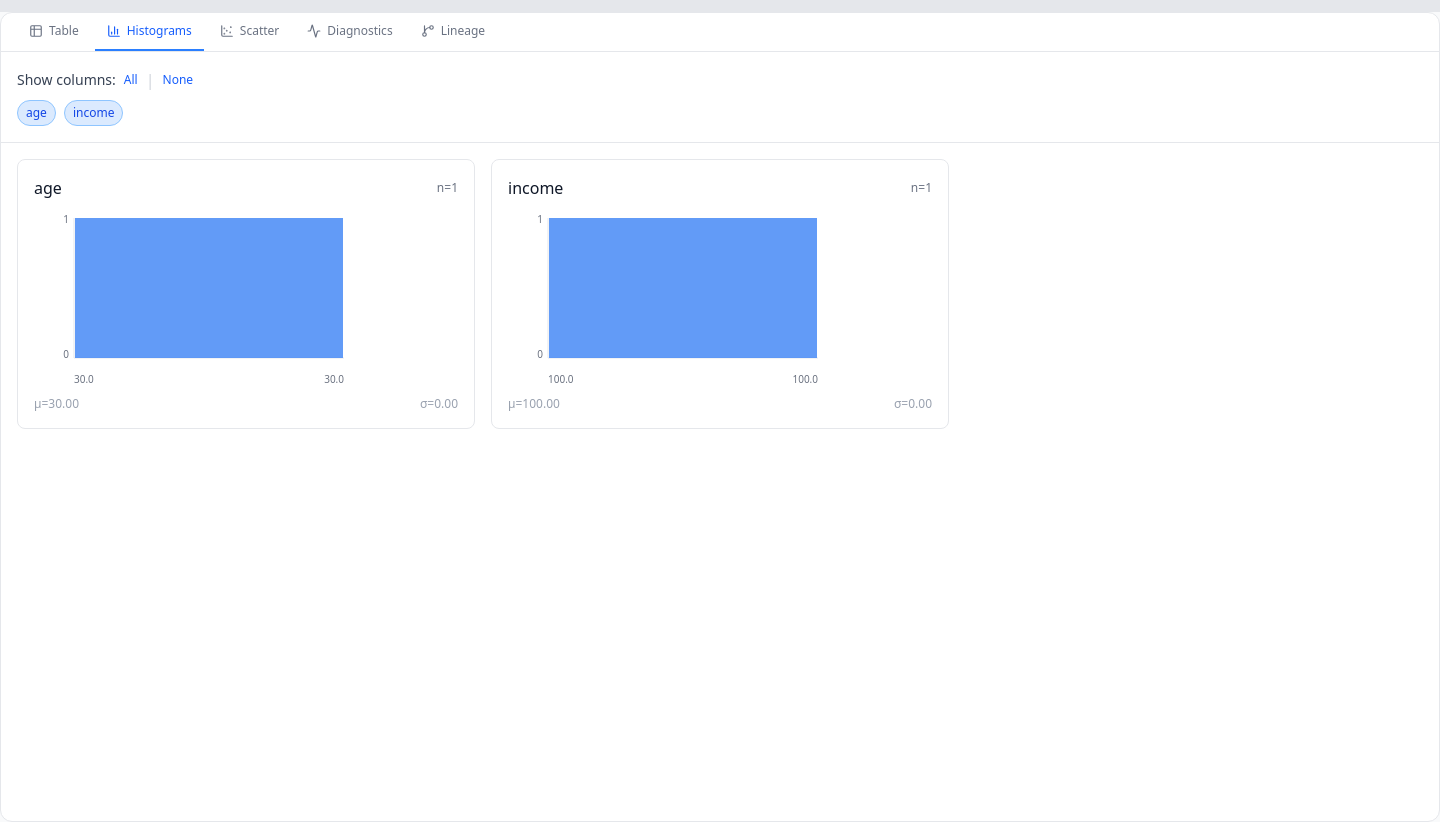
Scenario: Pipeline Workbench Components Smoke Tests › renders PipelineAnalysisTabs diagnostics empty state
This screenshot has width=1440, height=822.
Click the button "Diagnostics" at (350, 32), box [295,13,405,51]
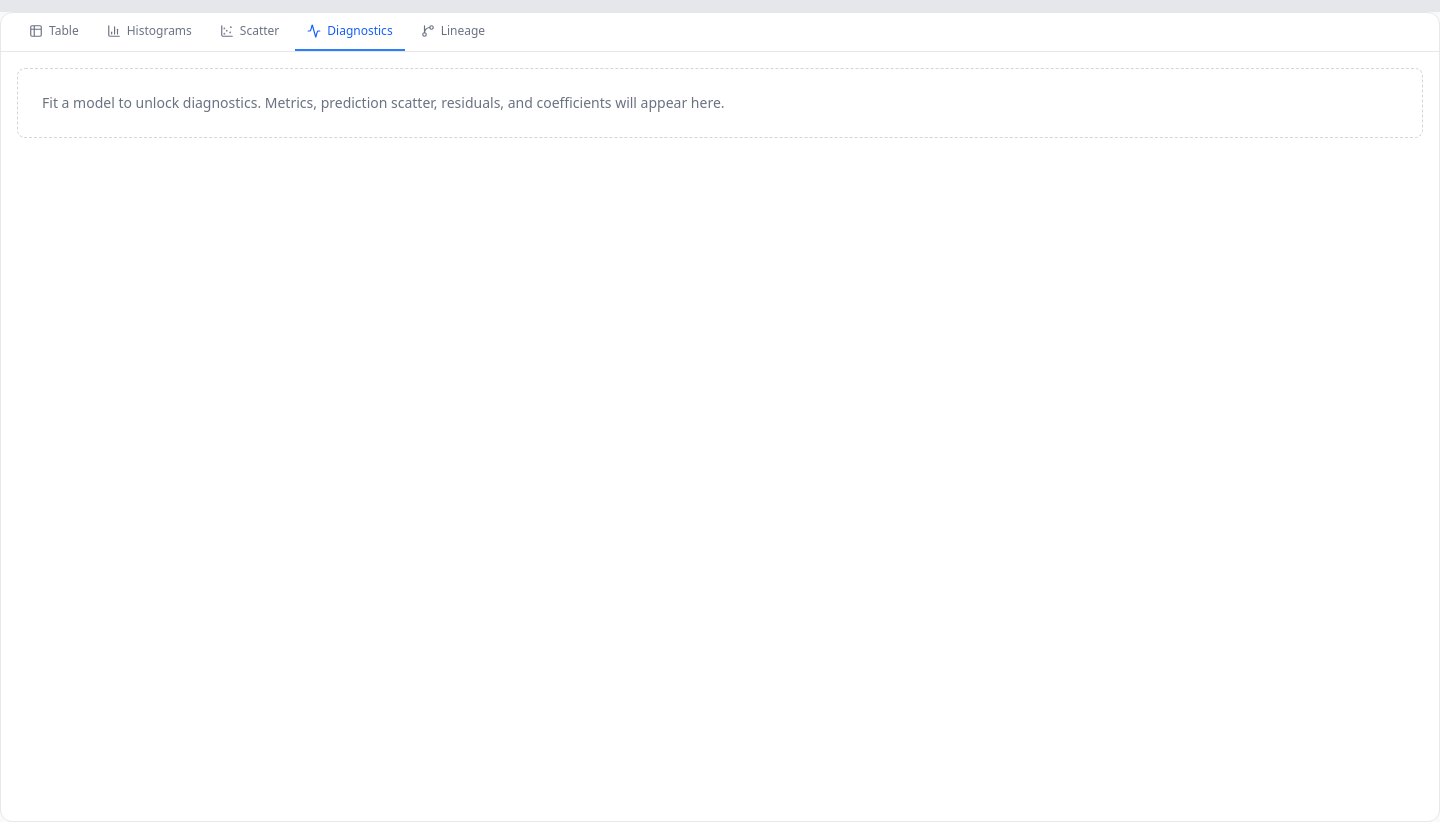
Expected: the text "Fit a model to unlock diagnostics" is shown, [42,93,725,112]
